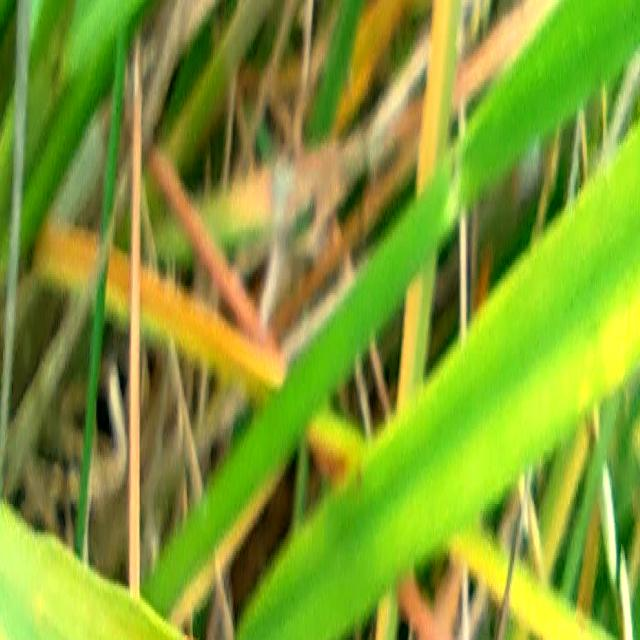NBS: (184, 636, 192, 640)
